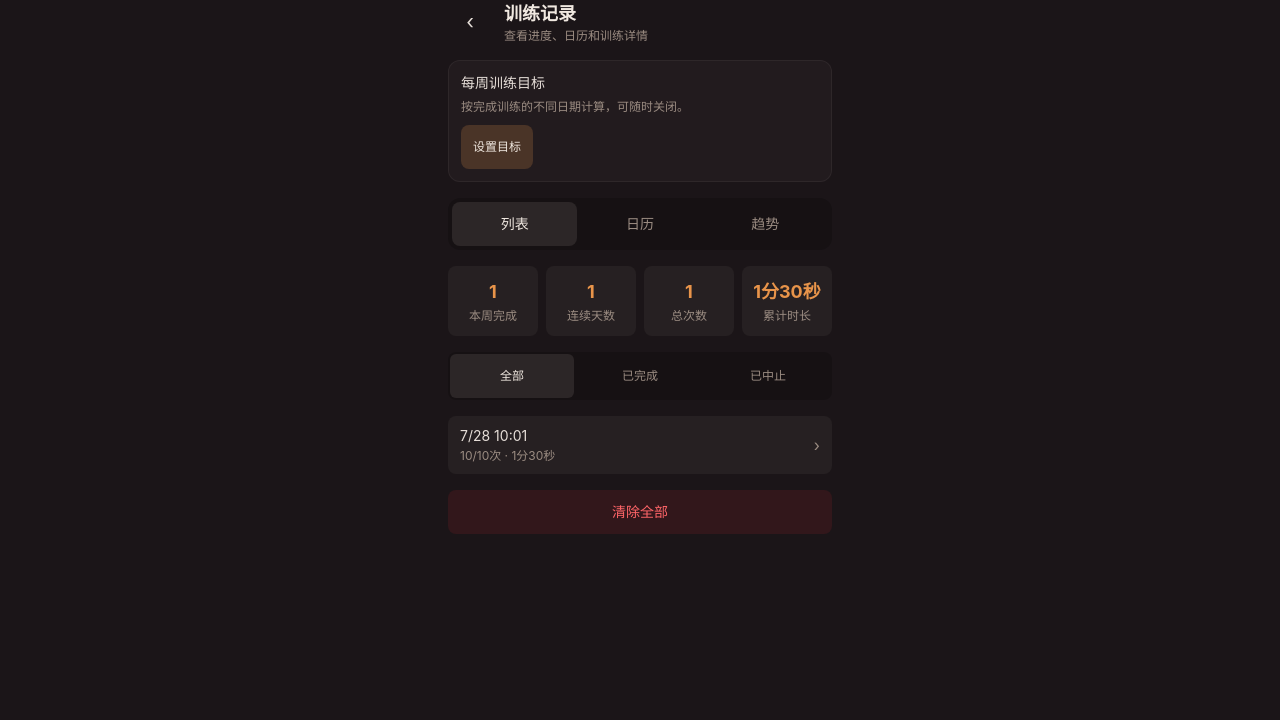
Scenario: clear all confirmation › shows dialog on click, does not delete on cancel
Click the button "清除全部" at (640, 512), box [448,490,832,534]
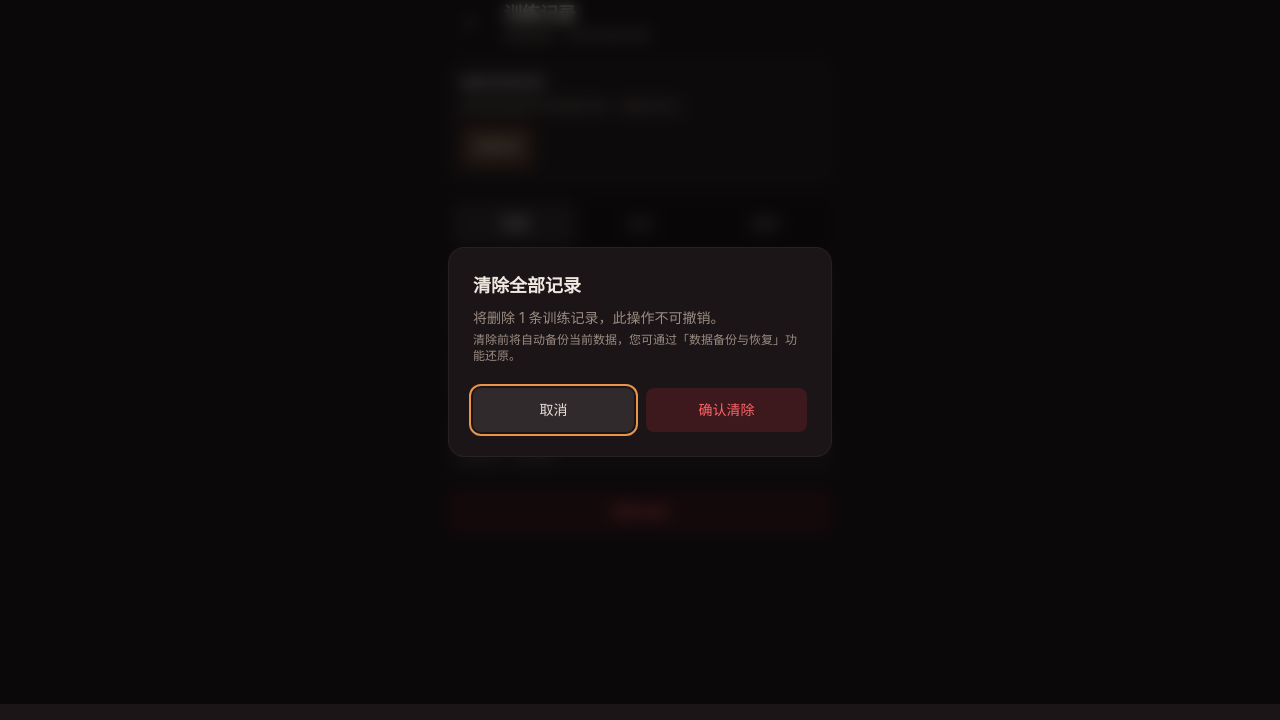
Result: the dialog is shown at [448,247,832,457]
Result: the text "将删除 1 条训练记录，此操作不可撤销。" is shown at [473,309,725,326]
Click the button "取消" at (554, 410), box [473,388,634,432]
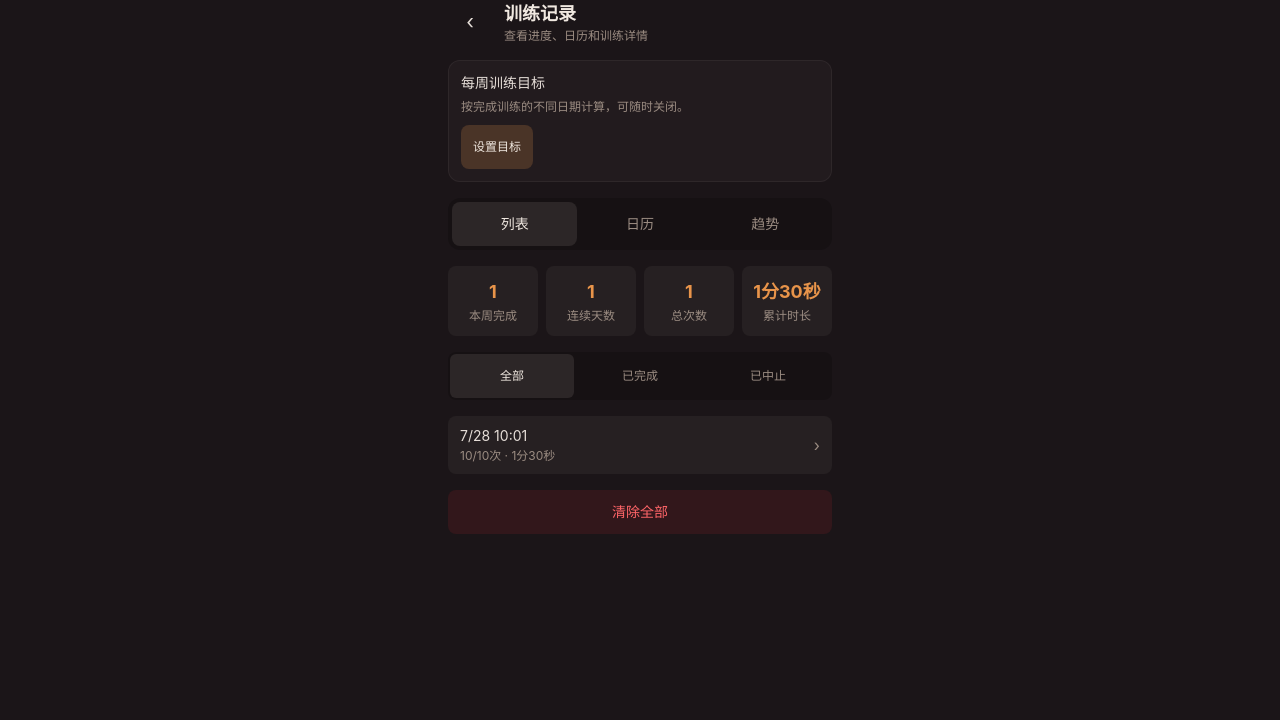
Result: the dialog is gone
